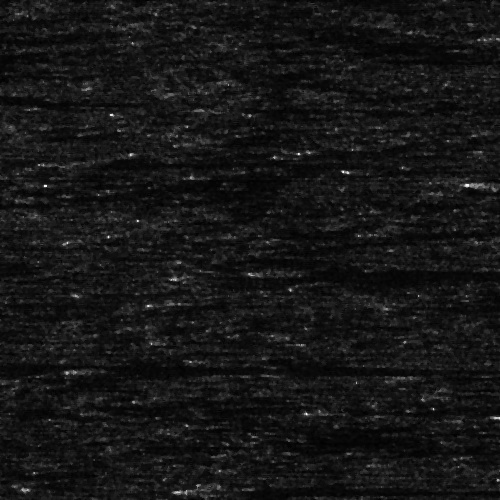object: (178, 482, 251, 499), (194, 100, 235, 115), (319, 406, 382, 415), (249, 268, 322, 275), (26, 159, 99, 164), (475, 32, 500, 43), (449, 46, 490, 49), (80, 368, 111, 371), (470, 180, 491, 183)
shadow: (0, 357, 475, 370), (215, 482, 500, 499), (215, 100, 352, 115), (286, 268, 500, 275), (0, 295, 104, 308), (351, 406, 499, 415), (63, 159, 326, 164), (0, 12, 70, 27), (95, 368, 428, 371), (0, 12, 57, 19), (0, 256, 33, 263), (470, 46, 500, 49)
